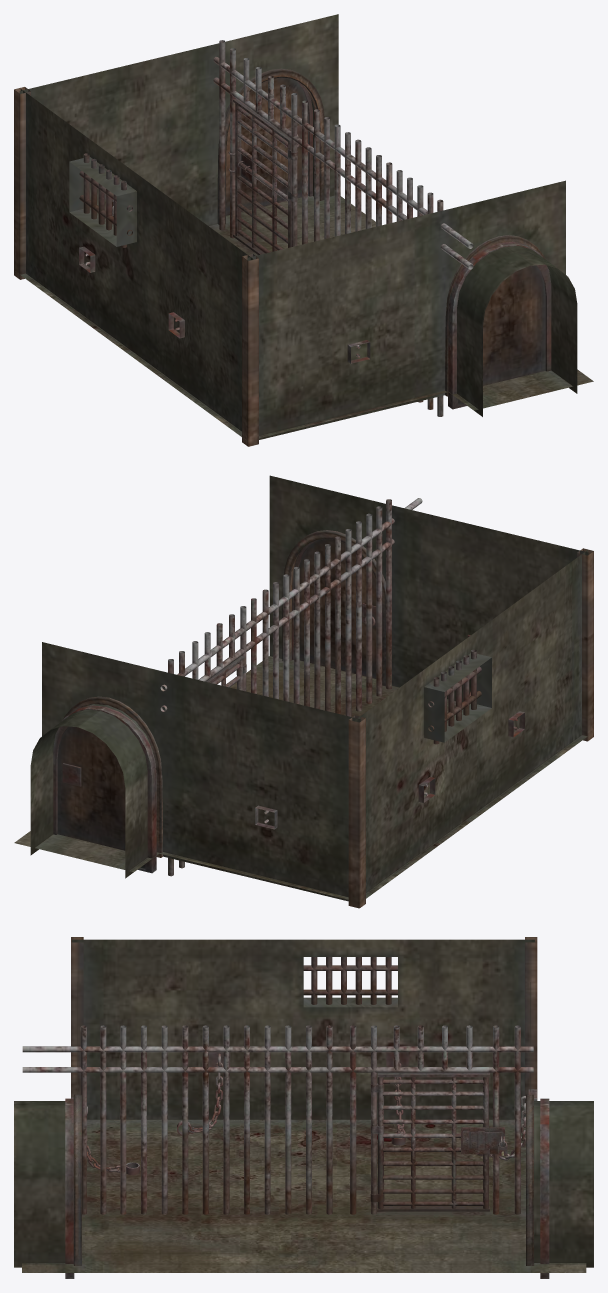
Rendered from dungeon.glb.
3 views of the same model, one above another, from view 1: azimuth 30°, elevation 25°; view 2: azimuth 150°, elevation 25°; view 3: azimuth 270°, elevation 25° (orthographic).
Parts seen in each view (by area): view 1: bw_tavern; view 2: bw_tavern; view 3: bw_tavern.
Boxes of the visible parts, <box> form: bw_tavern: <box>14,14,593,446</box>; bw_tavern: <box>14,475,593,908</box>; bw_tavern: <box>14,937,593,1278</box>.
Size of the model in its own units: 5.54 by 3.38 by 8.32.
7 materials, 7 textured.
